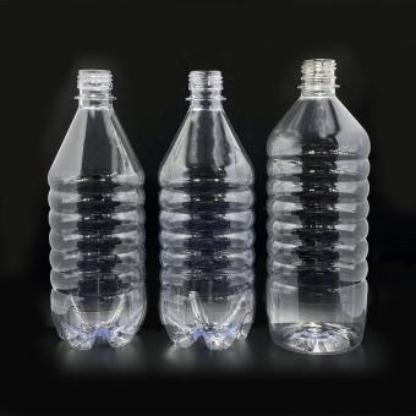Plastic Bottle: (263, 55, 370, 356), (46, 67, 148, 352), (160, 70, 256, 350)
